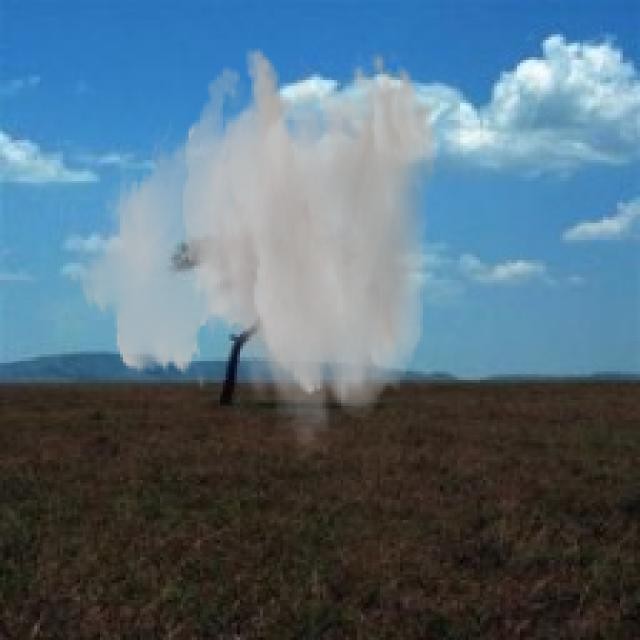smoke: (69, 46, 437, 463)
